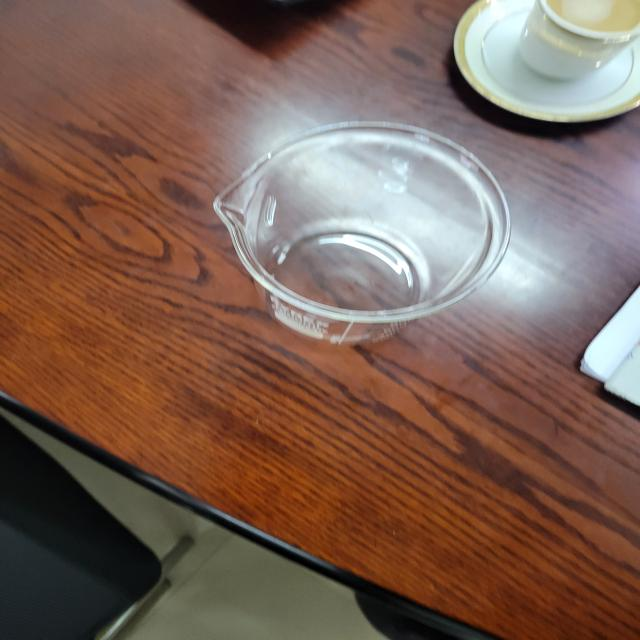Beaker: (212, 114, 520, 343)
